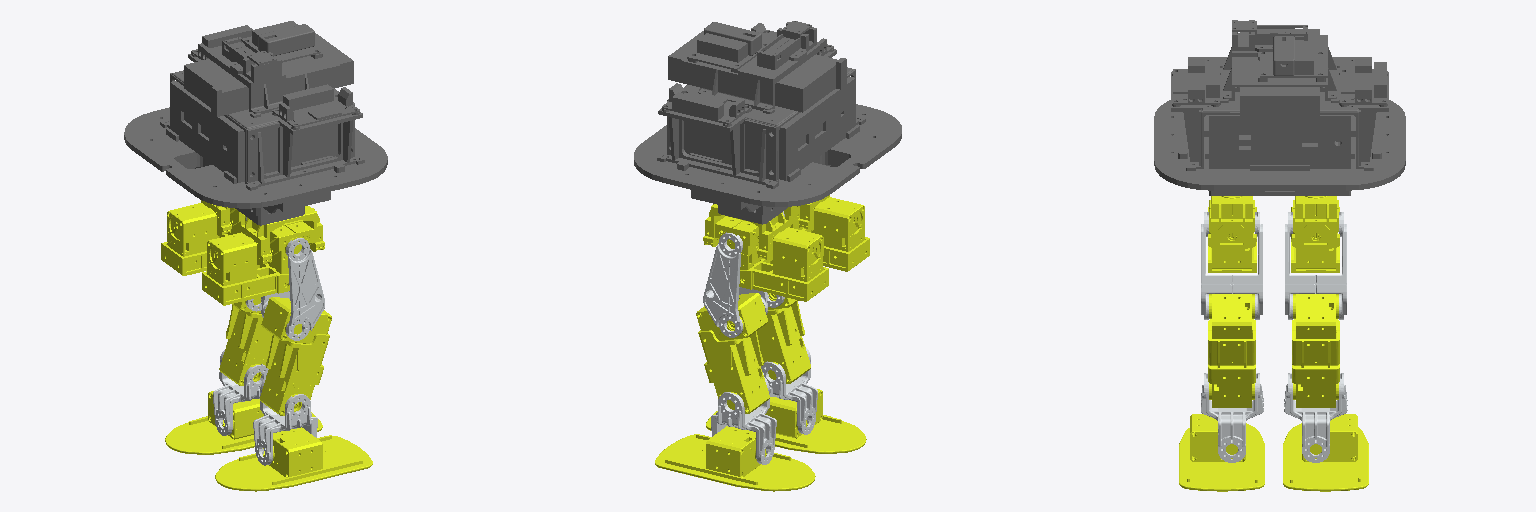
The robot description file, URDF, robot "exhx5_w_b_16":
<?xml version="1.0" encoding="utf-8"?>
<!-- This URDF was automatically created by SolidWorks to URDF Exporter! Originally created by [author] ([email redacted]) 
     Commit Version: 1.5.1-0-g916b5db  Build Version: 1.5.7152.31018
     For more information, please see http://wiki.ros.org/sw_urdf_exporter -->
<robot
  name="exhx5_w_b_16">
  <link
    name="body_link">
    <inertial>
      <origin
        xyz="0.00043545 0.00025536 0.10071"
        rpy="0 0 0" />
      <mass
        value="1.8238" />
      <inertia
        ixx="0.0025905"
        ixy="-5.6852E-06"
        ixz="-1.3106E-05"
        iyy="0.0024595"
        iyz="-1.261E-06"
        izz="0.0046407" />
    </inertial>
    <visual>
      <origin
        xyz="0 0 0"
        rpy="0 0 0" />
      <geometry>
        <mesh
          filename="../meshes/body_link.STL" />
      </geometry>
      <material
        name="">
        <color
          rgba="0.49804 0.49804 0.49804 1" />
      </material>
    </visual>
    <collision>
      <origin
        xyz="0 0 0"
        rpy="0 0 0" />
      <geometry>
        <mesh
          filename="../meshes/body_link.STL" />
      </geometry>
    </collision>
  </link>

  <link
    name="imu_link">
    <inertial>
      <origin
        xyz="-0.008387 1.336E-17 -0.0069463"
        rpy="0 0 0" />
      <mass
        value="0.0062931" />
      <inertia
        ixx="3.2242E-07"
        ixy="3.3527E-22"
        ixz="-6.9193E-08"
        iyy="9.2229E-07"
        iyz="-8.0392E-22"
        izz="1.1018E-06" />
    </inertial>
    <visual>
      <origin
        xyz="0 0 0"
        rpy="0 0 0" />
      <geometry>
        <mesh
          filename="../meshes/imu_link.STL" />
      </geometry>
      <material
        name="">
        <color
          rgba="0.79216 0.81961 0.93333 1" />
      </material>
    </visual>
    <collision>
      <origin
        xyz="0 0 0"
        rpy="0 0 0" />
      <geometry>
        <mesh
          filename="../meshes/imu_link.STL" />
      </geometry>
    </collision>
  </link>
  <joint
    name="imu"
    type="fixed">
    <origin
      xyz="0 0 0.0492"
      rpy="0 0 0" />
    <parent
      link="body_link" />
    <child
      link="imu_link" />
    <axis
      xyz="0 0 0" />
    <limit
      lower="-3.14"
      upper="3.14"
      effort="4"
      velocity="4" />
  </joint>
  <link
    name="l_hip_g_link">
    <inertial>
      <origin
        xyz="-0.0043797 -8.6604E-08 0.011813"
        rpy="0 0 0" />
      <mass
        value="0.061008" />
      <inertia
        ixx="1.167E-05"
        ixy="7.1767E-11"
        ixz="9.1442E-09"
        iyy="2.2342E-05"
        iyz="2.5177E-11"
        izz="2.4892E-05" />
    </inertial>
    <visual>
      <origin
        xyz="0 0 0"
        rpy="0 0 0" />
      <geometry>
        <mesh
          filename="../meshes/l_hip_g_link.STL" />
      </geometry>
      <material
        name="">
        <color
          rgba="0.9451 1 0.18431 1" />
      </material>
    </visual>
    <collision>
      <origin
        xyz="0 0 0"
        rpy="0 0 0" />
      <geometry>
        <mesh
          filename="../meshes/l_hip_g_link.STL" />
      </geometry>
    </collision>
  </link>
  <joint
    name="l_hip_g"
    type="fixed">
    <origin
      xyz=".002 .030 0"
      rpy="0 0 0" />
    <parent
      link="body_link" />
    <child
      link="l_hip_g_link" />
    <axis
      xyz="0 0 0" />
  </joint>
  <link
    name="l_hip_roll_link">
    <inertial>
      <origin
        xyz="0.013831 0.00033457 0.025453"
        rpy="0 0 0" />
      <mass
        value="0.2969" />
      <inertia
        ixx="7.8136E-05"
        ixy="7.265E-07"
        ixz="-6.9809E-08"
        iyy="9.2183E-05"
        iyz="-5.6881E-11"
        izz="7.1034E-05" />
    </inertial>
    <visual>
      <origin
        xyz="0 0 0"
        rpy="0 0 0" />
      <geometry>
        <mesh
          filename="../meshes/l_hip_roll_link.STL" />
      </geometry>
      <material
        name="">
        <color
          rgba="0.9451 1 0.18431 1" />
      </material>
    </visual>
    <collision>
      <origin
        xyz="0 0 0"
        rpy="0 0 0" />
      <geometry>
        <mesh
          filename="../meshes/l_hip_roll_link.STL" />
      </geometry>
    </collision>
  </link>
  <joint
    name="l_hip_roll"
    type="revolute">
    <origin
      xyz="0 0 0"
      rpy="3.1416 1.5708 0" />
    <parent
      link="l_hip_g_link" />
    <child
      link="l_hip_roll_link" />
    <axis
      xyz="0 0 1" />
    <limit
      lower="-3.14"
      upper="3.14"
      effort="4"
      velocity="4" />
  </joint>
  <link
    name="l_hip_pitch_link">
    <inertial>
      <origin
        xyz="0.041225 -0.007321 -5.0713E-08"
        rpy="0 0 0" />
      <mass
        value="0.051592" />
      <inertia
        ixx="2.7959E-05"
        ixy="2.0752E-06"
        ixz="-8.0934E-11"
        iyy="4.8156E-05"
        iyz="3.6317E-11"
        izz="2.9604E-05" />
    </inertial>
    <visual>
      <origin
        xyz="0 0 0"
        rpy="0 0 0" />
      <geometry>
        <mesh
          filename="../meshes/l_hip_pitch_link.STL" />
      </geometry>
      <material
        name="">
        <color
          rgba="0.89804 0.91765 0.92941 1" />
      </material>
    </visual>
    <collision>
      <origin
        xyz="0 0 0"
        rpy="0 0 0" />
      <geometry>
        <mesh
          filename="../meshes/l_hip_pitch_link.STL" />
      </geometry>
    </collision>
  </link>
  <joint
    name="l_hip_pitch"
    type="revolute">
    <origin
      xyz="0 0 0"
      rpy="1.5708 0 0" />
    <parent
      link="l_hip_roll_link" />
    <child
      link="l_hip_pitch_link" />
    <axis
      xyz="0 0 1" />
    <limit
      lower="-3.14"
      upper="3.14"
      effort="4"
      velocity="4" />
  </joint>
  <link
    name="l_knee_link">
    <inertial>
      <origin
        xyz="0.033756 -0.0084189 -6.6115E-09"
        rpy="0 0 0" />
      <mass
        value="0.28878" />
      <inertia
        ixx="6.6724E-05"
        ixy="7.5004E-07"
        ixz="-8.4578E-07"
        iyy="6.5699E-05"
        iyz="4.1085E-07"
        izz="7.0381E-05" />
    </inertial>
    <visual>
      <origin
        xyz="0 0 0"
        rpy="0 0 0" />
      <geometry>
        <mesh
          filename="../meshes/l_knee_link.STL" />
      </geometry>
      <material
        name="">
        <color
          rgba="0.9451 1 0.18431 1" />
      </material>
    </visual>
    <collision>
      <origin
        xyz="0 0 0"
        rpy="0 0 0" />
      <geometry>
        <mesh
          filename="../meshes/l_knee_link.STL" />
      </geometry>
    </collision>
  </link>
  <joint
    name="l_knee"
    type="revolute">
    <origin
      xyz="0.075954 0 0"
      rpy="0 0 0" />
    <parent
      link="l_hip_pitch_link" />
    <child
      link="l_knee_link" />
    <axis
      xyz="0 0 1" />
    <limit
      lower="-3.14"
      upper="3.14"
      effort="4"
      velocity="4" />
  </joint>
  <link
    name="l_ank_pitch_link">
    <inertial>
      <origin
        xyz="0.022786 -7.3909E-09 -7.1981E-06"
        rpy="0 0 0" />
      <mass
        value="0.044772" />
      <inertia
        ixx="1.777E-05"
        ixy="8.555E-14"
        ixz="-3.3713E-09"
        iyy="1.7119E-05"
        iyz="1.7593E-11"
        izz="1.8661E-05" />
    </inertial>
    <visual>
      <origin
        xyz="0 0 0"
        rpy="0 0 0" />
      <geometry>
        <mesh
          filename="../meshes/l_ank_pitch_link.STL" />
      </geometry>
      <material
        name="">
        <color
          rgba="0.89804 0.91765 0.92941 1" />
      </material>
    </visual>
    <collision>
      <origin
        xyz="0 0 0"
        rpy="0 0 0" />
      <geometry>
        <mesh
          filename="../meshes/l_ank_pitch_link.STL" />
      </geometry>
    </collision>
  </link>
  <joint
    name="l_ank_pitch"
    type="revolute">
    <origin
      xyz="0.074602 0 0"
      rpy="3.1416 0 0" />
    <parent
      link="l_knee_link" />
    <child
      link="l_ank_pitch_link" />
    <axis
      xyz="0 0 1" />
    <limit
      lower="-3.14"
      upper="3.14"
      effort="4"
      velocity="4" />
  </joint>
  <link
    name="l_ank_roll_link">
    <inertial>
      <origin
        xyz="0.0047069 0.010728 0.0015299"
        rpy="0 0 0" />
      <mass
        value="0.16774" />
      <inertia
        ixx="0.00012039"
        ixy="-3.7428E-09"
        ixz="4.4069E-08"
        iyy="8.7735E-05"
        iyz="7.0469E-07"
        izz="4.7866E-05" />
    </inertial>
    <visual>
      <origin
        xyz="0 0 0"
        rpy="0 0 0" />
      <geometry>
        <mesh
          filename="../meshes/l_ank_roll_link.STL" />
      </geometry>
      <material
        name="">
        <color
          rgba="0.9451 1 0.18431 1" />
      </material>
    </visual>
    <collision>
      <origin
        xyz="0 0 0"
        rpy="0 0 0" />
      <geometry>
        <mesh
          filename="../meshes/l_ank_roll_link.STL" />
      </geometry>
    </collision>
  </link>
  <joint
    name="l_ank_roll"
    type="revolute">
    <origin
      xyz="0.0465 0 0"
      rpy="-1.5708 0 0" />
    <parent
      link="l_ank_pitch_link" />
    <child
      link="l_ank_roll_link" />
    <axis
      xyz="0 0 1" />
    <limit
      lower="-3.14"
      upper="3.14"
      effort="4"
      velocity="4" />
  </joint>
  <link
    name="r_hip_g_link">
    <inertial>
      <origin
        xyz="-0.0043797 -8.6604E-08 0.011813"
        rpy="0 0 0" />
      <mass
        value="0.061008" />
      <inertia
        ixx="1.167E-05"
        ixy="7.1767E-11"
        ixz="9.1442E-09"
        iyy="2.2342E-05"
        iyz="2.5177E-11"
        izz="2.4892E-05" />
    </inertial>
    <visual>
      <origin
        xyz="0 0 0"
        rpy="0 0 0" />
      <geometry>
        <mesh
          filename="../meshes/r_hip_g_link.STL" />
      </geometry>
      <material
        name="">
        <color
          rgba="0.9451 1 0.18431 1" />
      </material>
    </visual>
    <collision>
      <origin
        xyz="0 0 0"
        rpy="0 0 0" />
      <geometry>
        <mesh
          filename="../meshes/r_hip_g_link.STL" />
      </geometry>
    </collision>
  </link>
  <joint
    name="r_hip_g"
    type="fixed">
    <origin
      xyz=".002 -.040 0"
      rpy="0 0 0" />
    <parent
      link="body_link" />
    <child
      link="r_hip_g_link" />
    <axis
      xyz="0 0 0" />
  </joint>
  <link
    name="r_hip_roll_link">
    <inertial>
      <origin
        xyz="0.013831 0.00033457 0.025453"
        rpy="0 0 0" />
      <mass
        value="0.2969" />
      <inertia
        ixx="7.8136E-05"
        ixy="7.265E-07"
        ixz="-6.9809E-08"
        iyy="9.2183E-05"
        iyz="-5.6881E-11"
        izz="7.1034E-05" />
    </inertial>
    <visual>
      <origin
        xyz="0 0 0"
        rpy="0 0 0" />
      <geometry>
        <mesh
          filename="../meshes/r_hip_roll_link.STL" />
      </geometry>
      <material
        name="">
        <color
          rgba="0.9451 1 0.18431 1" />
      </material>
    </visual>
    <collision>
      <origin
        xyz="0 0 0"
        rpy="0 0 0" />
      <geometry>
        <mesh
          filename="../meshes/r_hip_roll_link.STL" />
      </geometry>
    </collision>
  </link>
  <joint
    name="r_hip_roll"
    type="revolute">
    <origin
      xyz="0 0 0"
      rpy="3.1416 1.5708 0" />
    <parent
      link="r_hip_g_link" />
    <child
      link="r_hip_roll_link" />
    <axis
      xyz="0 0 1" />
    <limit
      lower="-3.14"
      upper="3.14"
      effort="4"
      velocity="4" />
  </joint>
  <link
    name="r_hip_pitch_link">
    <inertial>
      <origin
        xyz="0.041225 0.007321 5.0713E-08"
        rpy="0 0 0" />
      <mass
        value="0.051592" />
      <inertia
        ixx="2.7959E-05"
        ixy="-2.0752E-06"
        ixz="8.0934E-11"
        iyy="4.8156E-05"
        iyz="3.6317E-11"
        izz="2.9604E-05" />
    </inertial>
    <visual>
      <origin
        xyz="0 0 0"
        rpy="0 0 0" />
      <geometry>
        <mesh
          filename="../meshes/r_hip_pitch_link.STL" />
      </geometry>
      <material
        name="">
        <color
          rgba="0.89804 0.91765 0.92941 1" />
      </material>
    </visual>
    <collision>
      <origin
        xyz="0 0 0"
        rpy="0 0 0" />
      <geometry>
        <mesh
          filename="../meshes/r_hip_pitch_link.STL" />
      </geometry>
    </collision>
  </link>
  <joint
    name="r_hip_pitch"
    type="revolute">
    <origin
      xyz="0 0 0"
      rpy="-1.5708 0 0" />
    <parent
      link="r_hip_roll_link" />
    <child
      link="r_hip_pitch_link" />
    <axis
      xyz="0 0 1" />
    <limit
      lower="-3.14"
      upper="3.14"
      effort="4"
      velocity="4" />
  </joint>
  <link
    name="r_knee_link">
    <inertial>
      <origin
        xyz="0.033757 0.0084176 6.6115E-09"
        rpy="0 0 0" />
      <mass
        value="0.28878" />
      <inertia
        ixx="6.6724E-05"
        ixy="-7.5008E-07"
        ixz="8.458E-07"
        iyy="6.5699E-05"
        iyz="4.1081E-07"
        izz="7.0381E-05" />
    </inertial>
    <visual>
      <origin
        xyz="0 0 0"
        rpy="0 0 0" />
      <geometry>
        <mesh
          filename="../meshes/r_knee_link.STL" />
      </geometry>
      <material
        name="">
        <color
          rgba="0.9451 1 0.18431 1" />
      </material>
    </visual>
    <collision>
      <origin
        xyz="0 0 0"
        rpy="0 0 0" />
      <geometry>
        <mesh
          filename="../meshes/r_knee_link.STL" />
      </geometry>
    </collision>
  </link>
  <joint
    name="r_knee"
    type="revolute">
    <origin
      xyz="0.075954 0 0"
      rpy="0 0 0" />
    <parent
      link="r_hip_pitch_link" />
    <child
      link="r_knee_link" />
    <axis
      xyz="0 0 1" />
    <limit
      lower="-3.14"
      upper="3.14"
      effort="4"
      velocity="4" />
  </joint>
  <link
    name="r_ank_pitch_link">
    <inertial>
      <origin
        xyz="0.025786 -7.3887E-09 -7.1981E-06"
        rpy="0 0 0" />
      <mass
        value="0.044772" />
      <inertia
        ixx="1.777E-05"
        ixy="8.5434E-14"
        ixz="-3.3713E-09"
        iyy="1.7119E-05"
        iyz="1.7592E-11"
        izz="1.8661E-05" />
    </inertial>
    <visual>
      <origin
        xyz="0 0 0"
        rpy="0 0 0" />
      <geometry>
        <mesh
          filename="../meshes/r_ank_pitch_link.STL" />
      </geometry>
      <material
        name="">
        <color
          rgba="0.89804 0.91765 0.92941 1" />
      </material>
    </visual>
    <collision>
      <origin
        xyz="0 0 0"
        rpy="0 0 0" />
      <geometry>
        <mesh
          filename="../meshes/r_ank_pitch_link.STL" />
      </geometry>
    </collision>
  </link>
  <joint
    name="r_ank_pitch"
    type="revolute">
    <origin
      xyz="0.071602 0 0"
      rpy="3.1416 0 0" />
    <parent
      link="r_knee_link" />
    <child
      link="r_ank_pitch_link" />
    <axis
      xyz="0 0 1" />
    <limit
      lower="-3.14"
      upper="3.14"
      effort="4"
      velocity="4" />
  </joint>
  <link
    name="r_ank_roll_link">
    <inertial>
      <origin
        xyz="0.0077069 -0.010728 0.0015299"
        rpy="0 0 0" />
      <mass
        value="0.16774" />
      <inertia
        ixx="0.00012039"
        ixy="3.743E-09"
        ixz="4.407E-08"
        iyy="8.7735E-05"
        iyz="-7.0467E-07"
        izz="4.7866E-05" />
    </inertial>
    <visual>
      <origin
        xyz="0 0 0"
        rpy="0 0 0" />
      <geometry>
        <mesh
          filename="../meshes/r_ank_roll_link.STL" />
      </geometry>
      <material
        name="">
        <color
          rgba="0.9451 1 0.18431 1" />
      </material>
    </visual>
    <collision>
      <origin
        xyz="0 0 0"
        rpy="0 0 0" />
      <geometry>
        <mesh
          filename="../meshes/r_ank_roll_link.STL" />
      </geometry>
    </collision>
  </link>
  <joint
    name="r_ank_roll"
    type="revolute">
    <origin
      xyz="0.0465 0 0"
      rpy="1.5708 0 0" />
    <parent
      link="r_ank_pitch_link" />
    <child
      link="r_ank_roll_link" />
    <axis
      xyz="0 0 1" />
    <limit
      lower="-3.14"
      upper="3.14"
      effort="4"
      velocity="4" />
  </joint>
  <transmission name="r_hip_roll_tran">
    <type>transmission_interface/SimpleTransmission</type>
    <joint name="r_hip_roll">
      <hardwareInterface>hardware_interface/EffortJointInterface</hardwareInterface>
    </joint>
    <actuator name="r_hip_roll_motor">
      <hardwareInterface>hardware_interface/EffortJointInterface</hardwareInterface>
      <mechanicalReduction>1</mechanicalReduction>
    </actuator>
  </transmission>
  <transmission name="r_hip_pitch_tran">
    <type>transmission_interface/SimpleTransmission</type>
    <joint name="r_hip_pitch">
      <hardwareInterface>hardware_interface/EffortJointInterface</hardwareInterface>
    </joint>
    <actuator name="r_hip_pitch_motor">
      <hardwareInterface>hardware_interface/EffortJointInterface</hardwareInterface>
      <mechanicalReduction>1</mechanicalReduction>
    </actuator>
  </transmission>
  <transmission name="r_knee_tran">
    <type>transmission_interface/SimpleTransmission</type>
    <joint name="r_knee">
      <hardwareInterface>hardware_interface/EffortJointInterface</hardwareInterface>
    </joint>
    <actuator name="r_knee_motor">
      <hardwareInterface>hardware_interface/EffortJointInterface</hardwareInterface>
      <mechanicalReduction>1</mechanicalReduction>
    </actuator>
  </transmission>
  <transmission name="r_ank_pitch_tran">
    <type>transmission_interface/SimpleTransmission</type>
    <joint name="r_ank_pitch">
      <hardwareInterface>hardware_interface/EffortJointInterface</hardwareInterface>
    </joint>
    <actuator name="r_ank_pitch_motor">
      <hardwareInterface>hardware_interface/EffortJointInterface</hardwareInterface>
      <mechanicalReduction>1</mechanicalReduction>
    </actuator>
  </transmission>
  <transmission name="r_ank_roll_tran">
    <type>transmission_interface/SimpleTransmission</type>
    <joint name="r_ank_roll">
      <hardwareInterface>hardware_interface/EffortJointInterface</hardwareInterface>
    </joint>
    <actuator name="r_ank_roll_motor">
      <hardwareInterface>hardware_interface/EffortJointInterface</hardwareInterface>
      <mechanicalReduction>1</mechanicalReduction>
    </actuator>
  </transmission>
  <transmission name="l_hip_roll_tran">
    <type>transmission_interface/SimpleTransmission</type>
    <joint name="l_hip_roll">
      <hardwareInterface>hardware_interface/EffortJointInterface</hardwareInterface>
    </joint>
    <actuator name="l_hip_roll_motor">
      <hardwareInterface>hardware_interface/EffortJointInterface</hardwareInterface>
      <mechanicalReduction>1</mechanicalReduction>
    </actuator>
  </transmission>
  <transmission name="l_hip_pitch_tran">
    <type>transmission_interface/SimpleTransmission</type>
    <joint name="l_hip_pitch">
      <hardwareInterface>hardware_interface/EffortJointInterface</hardwareInterface>
    </joint>
    <actuator name="l_hip_pitch_motor">
      <hardwareInterface>hardware_interface/EffortJointInterface</hardwareInterface>
      <mechanicalReduction>1</mechanicalReduction>
    </actuator>
  </transmission>
  <transmission name="l_knee_tran">
    <type>transmission_interface/SimpleTransmission</type>
    <joint name="l_knee">
      <hardwareInterface>hardware_interface/EffortJointInterface</hardwareInterface>
    </joint>
    <actuator name="l_knee_motor">
      <hardwareInterface>hardware_interface/EffortJointInterface</hardwareInterface>
      <mechanicalReduction>1</mechanicalReduction>
    </actuator>
  </transmission>
  <transmission name="l_ank_pitch_tran">
    <type>transmission_interface/SimpleTransmission</type>
    <joint name="l_ank_pitch">
      <hardwareInterface>hardware_interface/EffortJointInterface</hardwareInterface>
    </joint>
    <actuator name="l_ank_pitch_motor">
      <hardwareInterface>hardware_interface/EffortJointInterface</hardwareInterface>
      <mechanicalReduction>1</mechanicalReduction>
    </actuator>
  </transmission>
  <transmission name="l_ank_roll_tran">
    <type>transmission_interface/SimpleTransmission</type>
    <joint name="l_ank_roll">
      <hardwareInterface>hardware_interface/EffortJointInterface</hardwareInterface>
    </joint>
    <actuator name="l_ank_roll_motor">
      <hardwareInterface>hardware_interface/EffortJointInterface</hardwareInterface>
      <mechanicalReduction>1</mechanicalReduction>
    </actuator>
  </transmission>
</robot>

--- What the picture shows (computed from the rendered views, not written in the file) ---
The picture shows the robot from 3 angles, left to right: view 1: azimuth 30°, elevation 25°; view 2: azimuth 150°, elevation 25°; view 3: azimuth 270°, elevation 25°; orthographic projection.
Model exhx5_w_b_16 with 14 links and 13 joints (10 revolute, 3 fixed), rooted at body_link, posed all joints at 0.
Visible links, largest first — view 1: body_link, r_ank_roll_link, r_hip_roll_link, r_knee_link, l_hip_roll_link, l_ank_roll_link, r_hip_pitch_link, l_knee_link, r_ank_pitch_link, l_ank_pitch_link, r_hip_g_link; view 2: body_link, l_ank_roll_link, l_hip_roll_link, l_knee_link, r_hip_roll_link, r_ank_roll_link, l_hip_pitch_link, r_knee_link, l_ank_pitch_link, r_ank_pitch_link, l_hip_g_link; view 3: body_link, l_knee_link, r_knee_link, l_ank_roll_link, r_ank_roll_link, l_hip_pitch_link, r_hip_pitch_link, r_hip_g_link, l_hip_g_link, l_ank_pitch_link, r_ank_pitch_link, l_hip_roll_link (+1 smaller).
Boxes of the visible links, x1=… form: body_link: x1=124, y1=21, x2=387, y2=225; r_ank_roll_link: x1=215, y1=427, x2=372, y2=491; r_hip_roll_link: x1=202, y1=220, x2=313, y2=305; r_knee_link: x1=260, y1=297, x2=331, y2=415; l_hip_roll_link: x1=161, y1=203, x2=245, y2=275; l_ank_roll_link: x1=165, y1=391, x2=322, y2=454; r_hip_pitch_link: x1=261, y1=238, x2=324, y2=340; l_knee_link: x1=219, y1=297, x2=272, y2=385; r_ank_pitch_link: x1=253, y1=379, x2=317, y2=465; l_ank_pitch_link: x1=213, y1=350, x2=268, y2=435; r_hip_g_link: x1=241, y1=206, x2=324, y2=264; body_link: x1=634, y1=21, x2=901, y2=224; l_ank_roll_link: x1=655, y1=426, x2=815, y2=491; l_hip_roll_link: x1=715, y1=216, x2=828, y2=301; l_knee_link: x1=696, y1=293, x2=769, y2=413; r_hip_roll_link: x1=784, y1=197, x2=869, y2=271; r_ank_roll_link: x1=706, y1=389, x2=866, y2=453; l_hip_pitch_link: x1=703, y1=232, x2=767, y2=337; r_knee_link: x1=757, y1=293, x2=810, y2=383; l_ank_pitch_link: x1=711, y1=377, x2=776, y2=464; r_ank_pitch_link: x1=761, y1=346, x2=817, y2=434; l_hip_g_link: x1=703, y1=204, x2=788, y2=260; body_link: x1=1154, y1=20, x2=1405, y2=195; l_knee_link: x1=1292, y1=294, x2=1339, y2=407; r_knee_link: x1=1208, y1=294, x2=1255, y2=407; l_ank_roll_link: x1=1283, y1=414, x2=1368, y2=491; r_ank_roll_link: x1=1179, y1=414, x2=1264, y2=491; l_hip_pitch_link: x1=1285, y1=212, x2=1346, y2=319; r_hip_pitch_link: x1=1201, y1=212, x2=1262, y2=319; r_hip_g_link: x1=1208, y1=196, x2=1256, y2=247; l_hip_g_link: x1=1291, y1=196, x2=1339, y2=247; l_ank_pitch_link: x1=1284, y1=373, x2=1347, y2=462; r_ank_pitch_link: x1=1201, y1=373, x2=1263, y2=462; l_hip_roll_link: x1=1291, y1=200, x2=1339, y2=272.
Size in the robot's own frame: 0.185 by 0.21 by 0.3893 metres.
Meshes: 14 distinct files referenced, 14 mesh visuals loaded (14 binary STL).